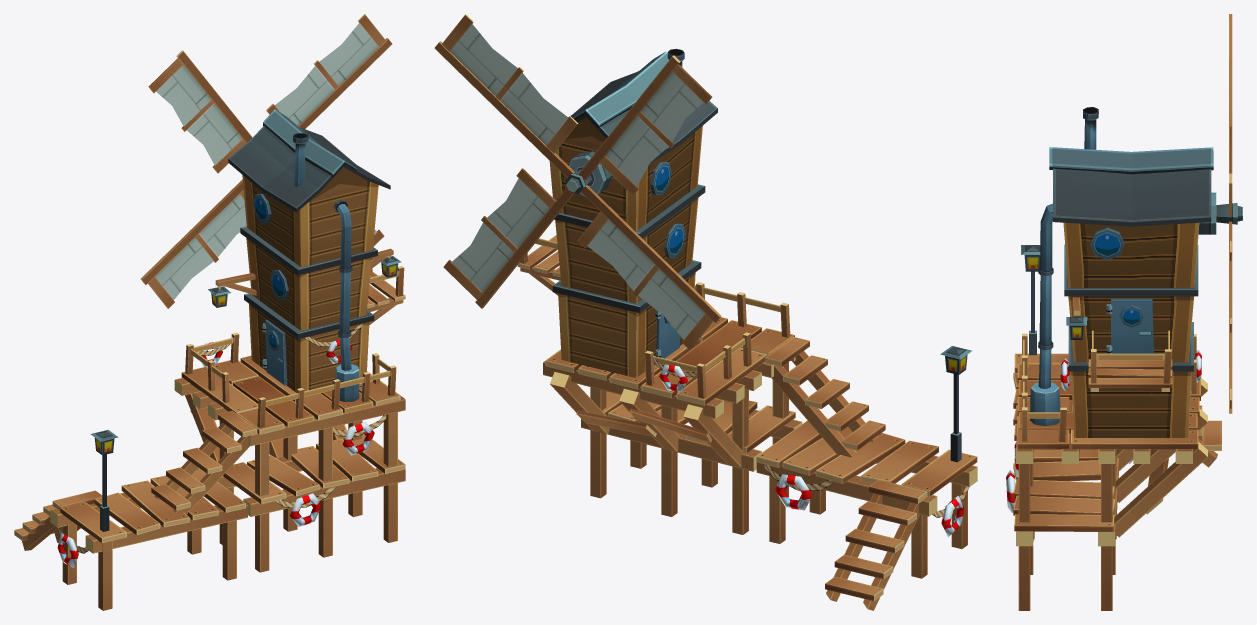
Rendered from Windmill.FBX.
3 views of the same model, side by side, from view 1: azimuth 30°, elevation 25°; view 2: azimuth 150°, elevation 25°; view 3: azimuth 270°, elevation 25° (orthographic). The views are drawn at different scales.
Parts seen in each view (by area): view 1: windmill_house, windmill_rotor; view 2: windmill_house, windmill_rotor; view 3: windmill_house, windmill_rotor.
Boxes of the visible parts, box(x1,y1,x2,y2) form: windmill_house: box(14, 109, 405, 610); windmill_rotor: box(140, 14, 392, 308); windmill_house: box(517, 48, 977, 610); windmill_rotor: box(434, 14, 721, 349); windmill_house: box(1006, 107, 1221, 610); windmill_rotor: box(1216, 14, 1242, 413).
Bounding box in the file's own units: 34.88 × 38.43 × 15.66.
1 material, 1 textured.
